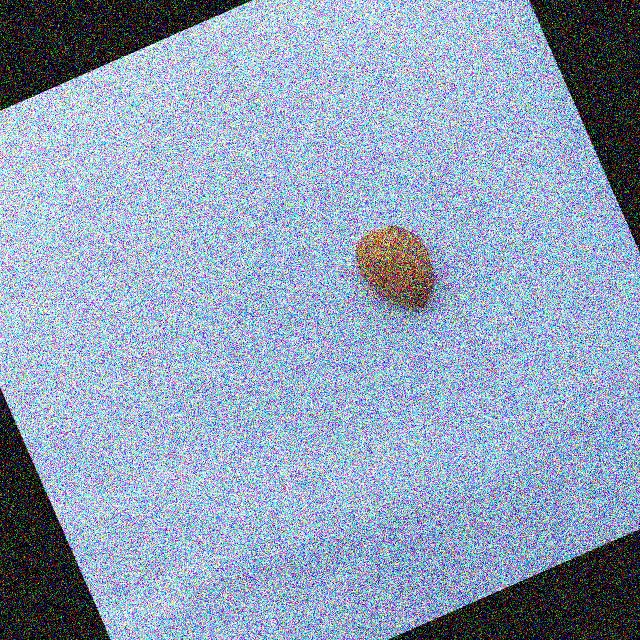grade2: (340, 210, 452, 330)
